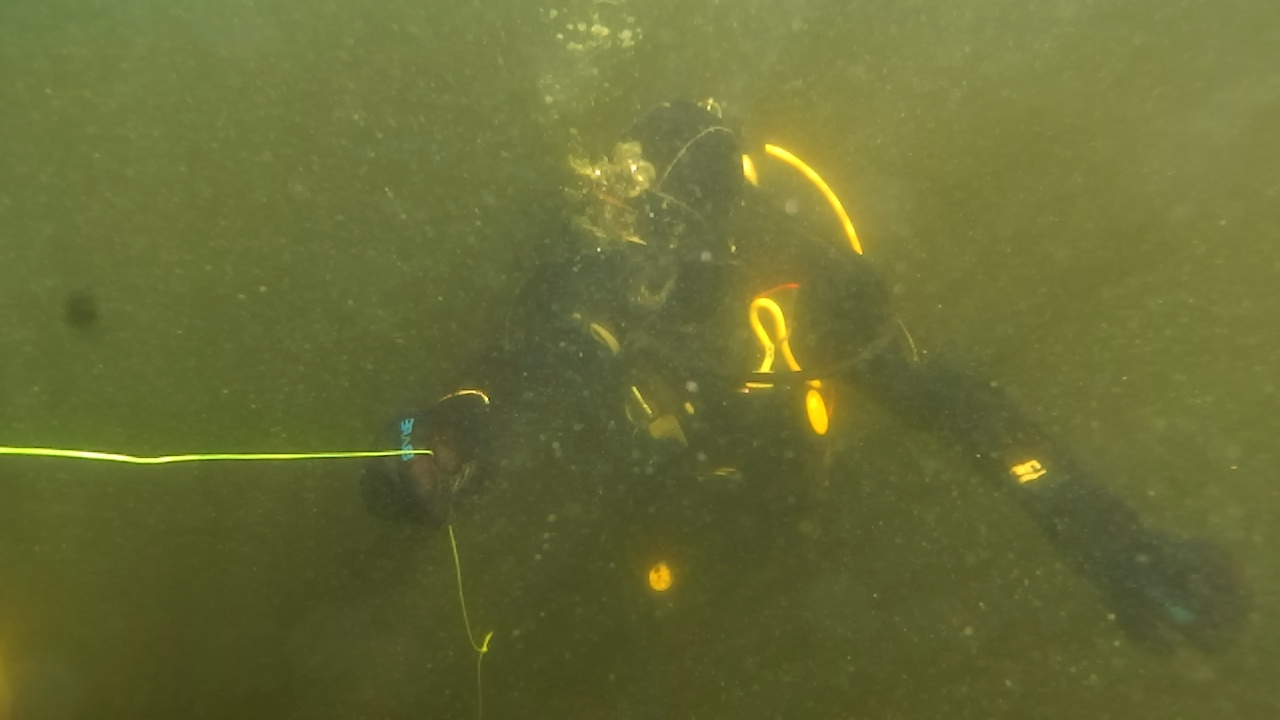Diver: (314, 102, 1254, 688)
Hand: (1066, 520, 1276, 666), (332, 386, 508, 560)
Head: (520, 96, 776, 388)
